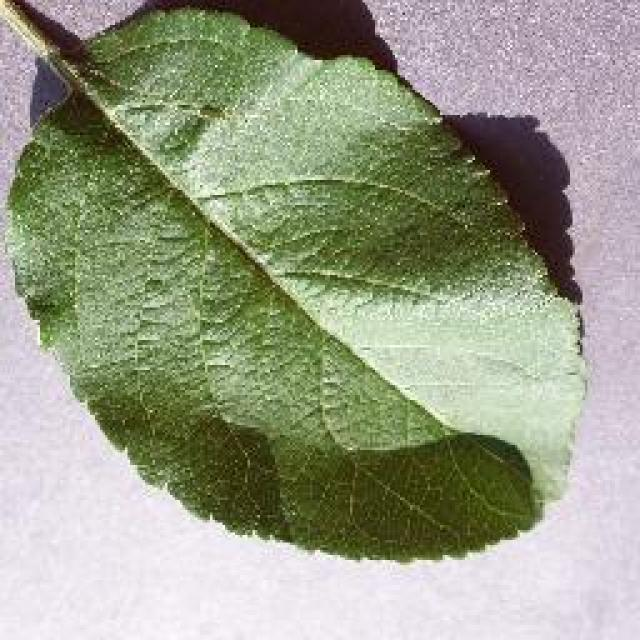apple healthy: (0, 0, 590, 562)
